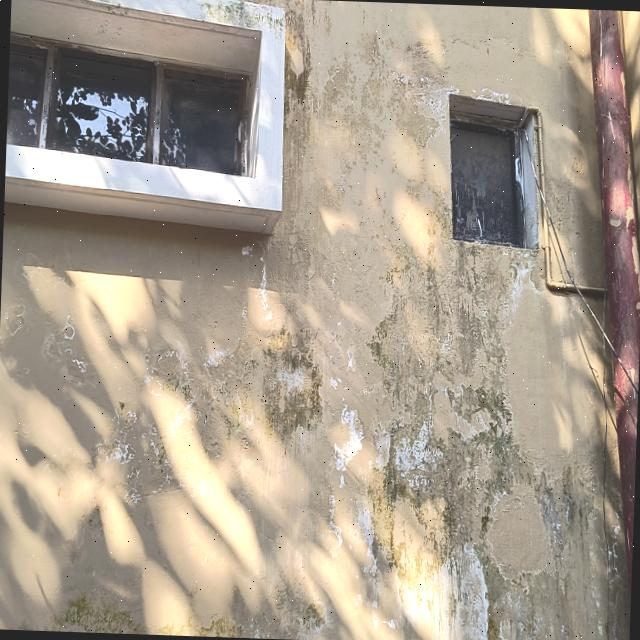Paint Peeling: (0, 0, 627, 640)
pollution -moisture induced blackening: (0, 0, 628, 640)
